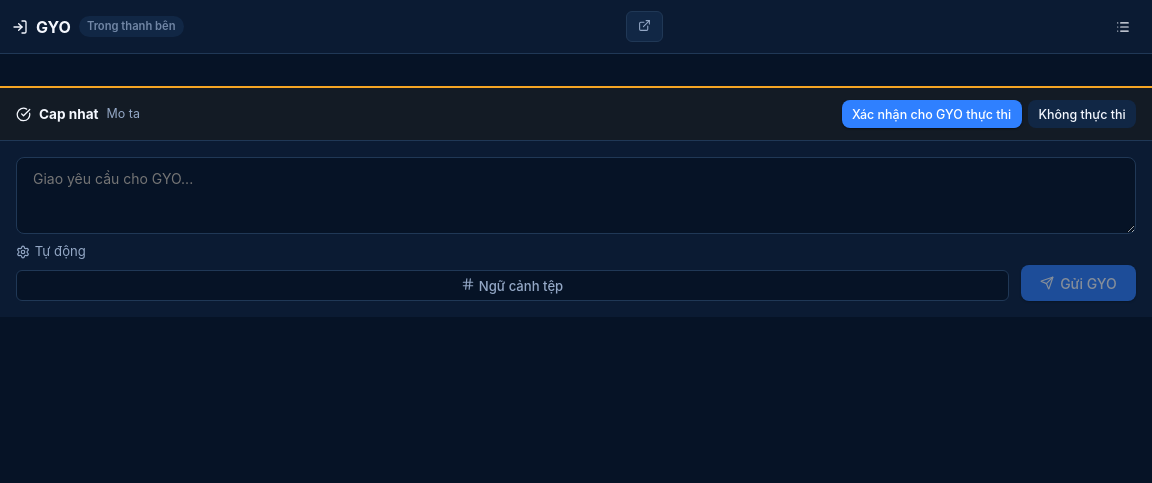
Test: GYOAssistant (shared surface) › rechecks canonical preflight at click time and rejects an invalid package without approval
Click the button "Xác nhận cho GYO thực thi" at {"x": 932, "y": 114}, box [842,100,1022,128]
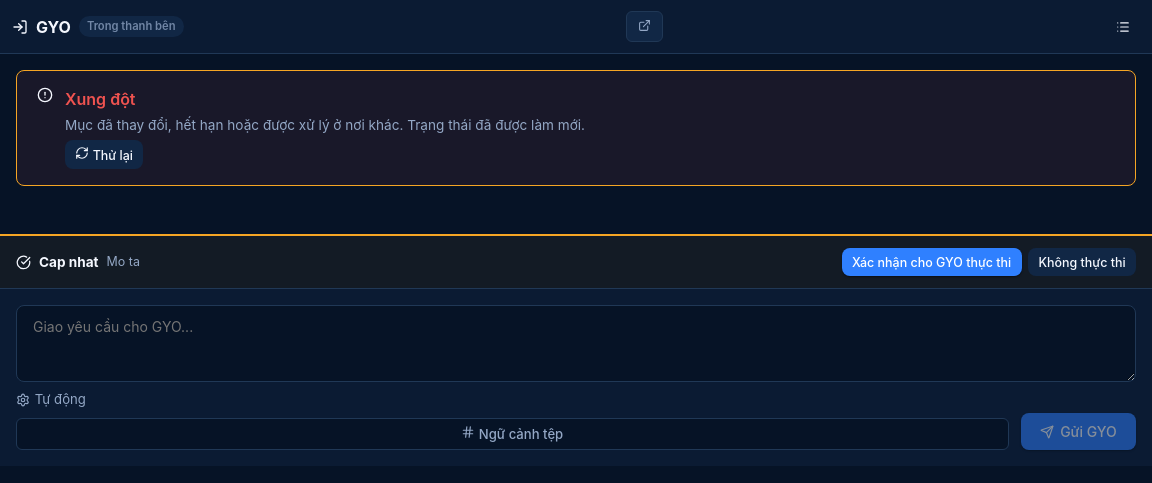
Check: the text "Mục đã thay đổi, hết hạn hoặc được xử lý ở nơi khác" is shown, box [65,117,585,133]
